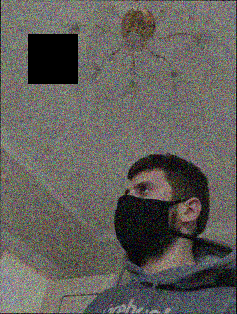with_mask: (114, 178, 175, 258)
